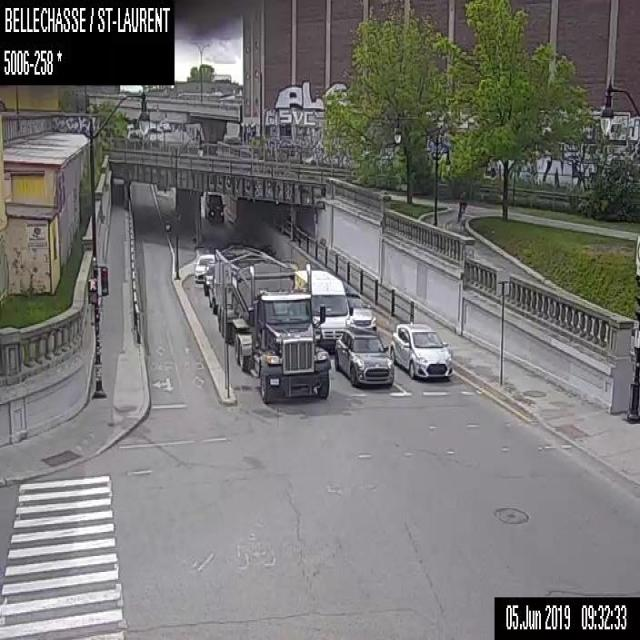vehicle: (214, 244, 331, 402), (295, 268, 349, 346), (333, 325, 393, 386), (390, 320, 452, 378), (346, 293, 376, 330), (203, 192, 224, 224), (194, 252, 214, 281), (203, 262, 214, 294)
